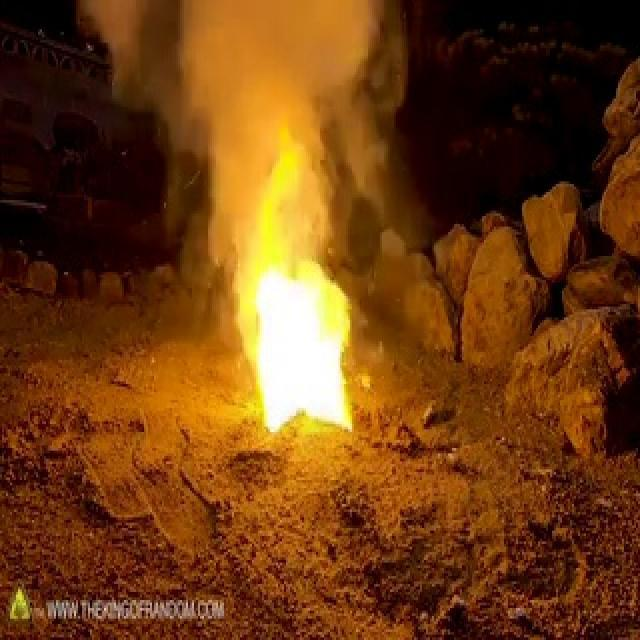fire: (264, 247, 390, 412)
